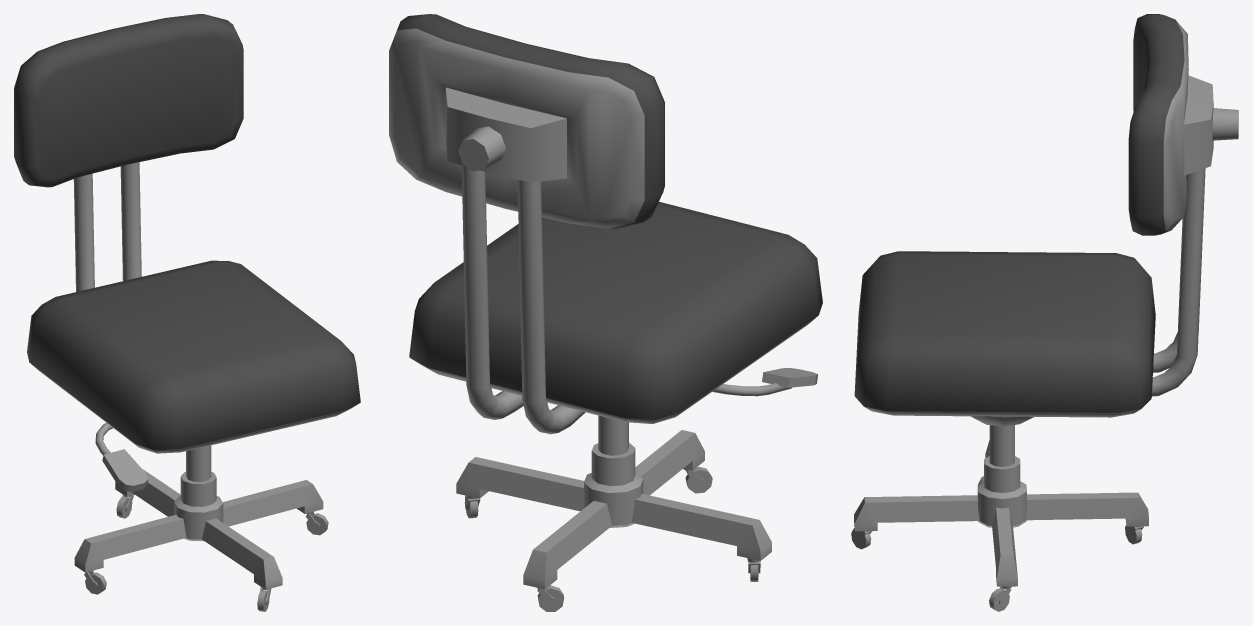
Rendered from Silla03.fbx.
3 views of the same model, side by side, from view 1: azimuth 30°, elevation 25°; view 2: azimuth 150°, elevation 25°; view 3: azimuth 270°, elevation 25° (orthographic). The views are drawn at different scales.
Visible parts, largest first — view 1: Silla03; view 2: Silla03; view 3: Silla03.
Boxes of the visible parts, box(x1,y1,x2,y2) form: Silla03: box(14, 14, 360, 611); Silla03: box(389, 14, 822, 611); Silla03: box(851, 14, 1238, 611).
Bounding box in the file's own units: 77.28 × 141 × 99.94.
